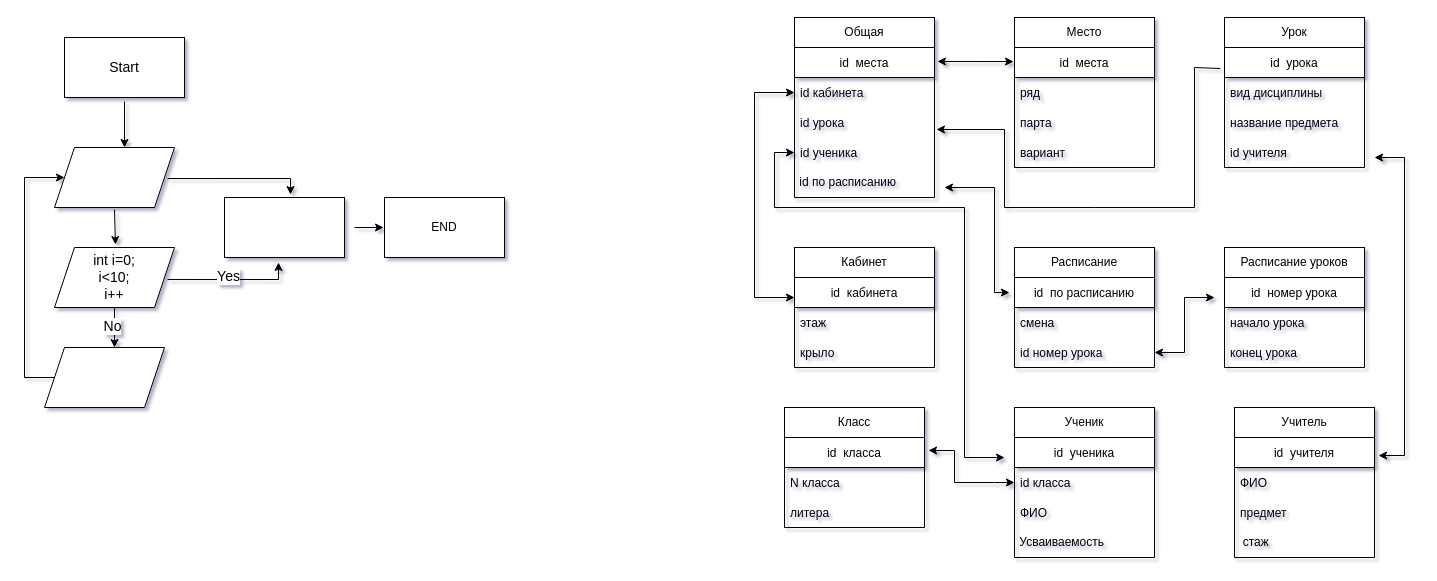
Image size: 1437x581. Some labels were removed from this diagram. The shapes that lost their labels are listed below. From the top down, each one's centre as x and y in pixels, then its label:
At pixel 114 177: "n=10".
At pixel 284 227: "Print".
At pixel 104 377: "int i+1".
